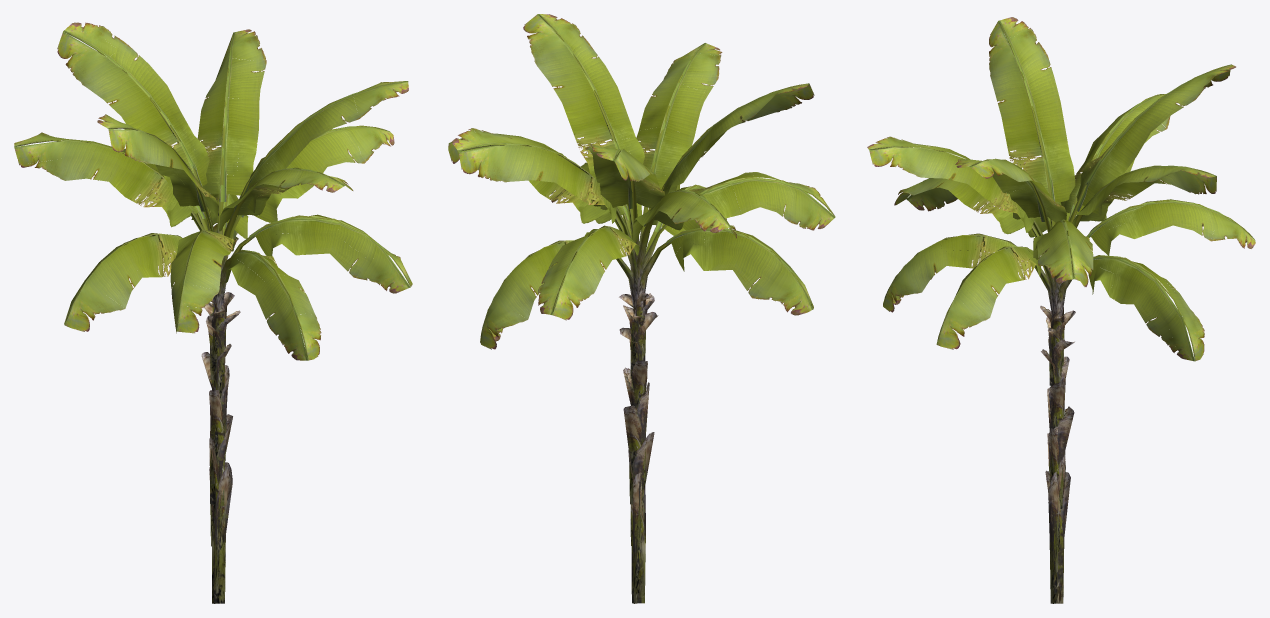
Rendered from Banana_Tree_Model_0.obj.
3 views of the same model, side by side, from view 1: azimuth 30°, elevation 25°; view 2: azimuth 150°, elevation 25°; view 3: azimuth 270°, elevation 25° (orthographic). The views are drawn at different scales.
Parts seen in each view (by area): view 1: Foliage; view 2: Foliage; view 3: Foliage.
Part boxes in pixels (x1,y1,x2,y2): Foliage: (14, 22, 412, 603); Foliage: (448, 14, 835, 603); Foliage: (867, 17, 1255, 603).
Bounding box in the file's own units: 3.05 × 4.5 × 3.09.
Materials: 1 (1 with a texture image).
